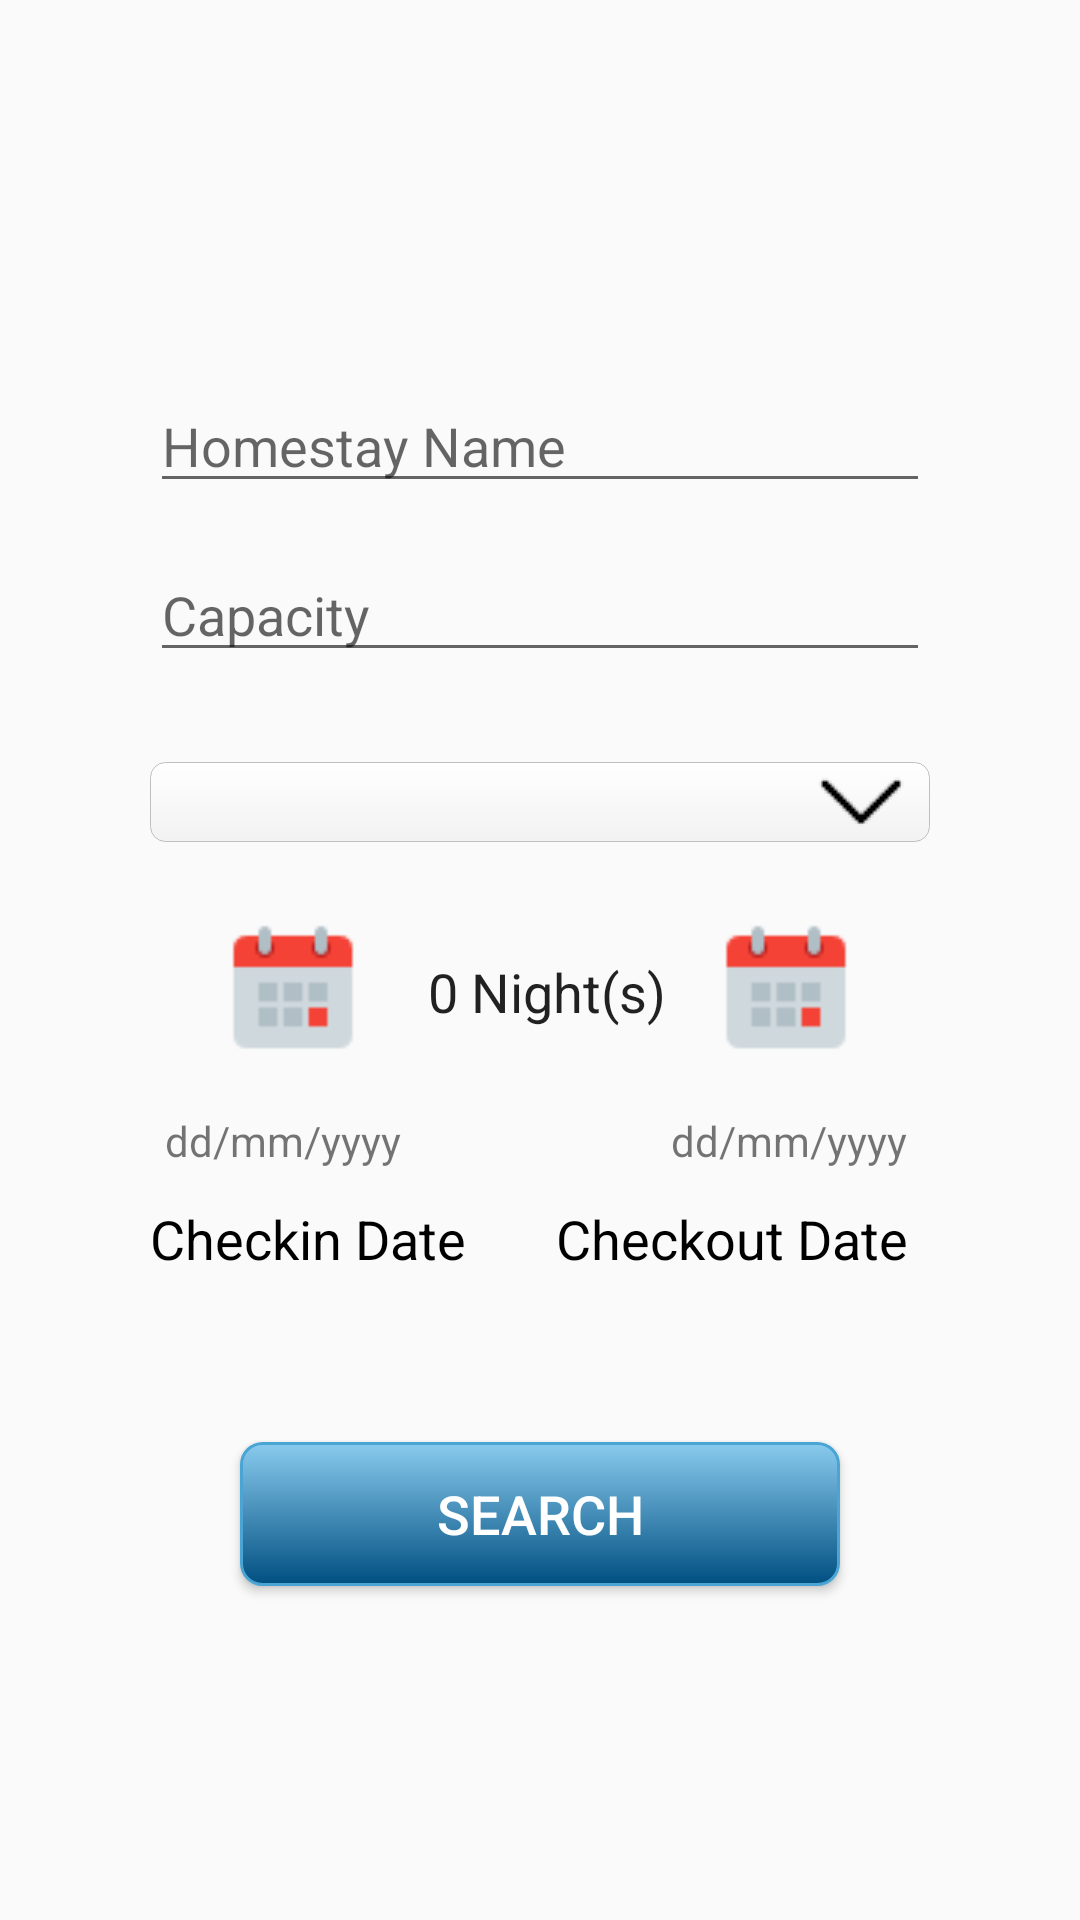

Named icons in this screenshot (1080 × 1920) and their bounding boxes, [x1, y1, x2, y2]:
calender: [232, 926, 354, 1048], [725, 926, 847, 1048]
